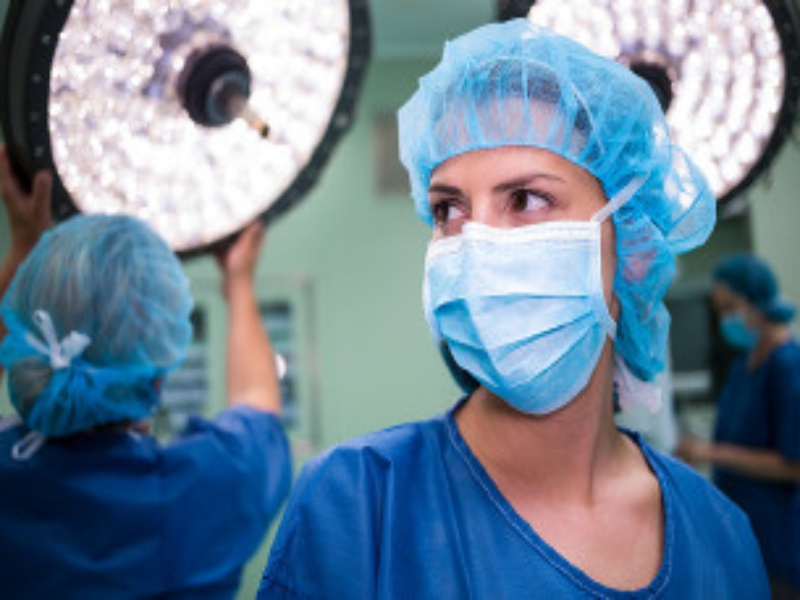mask: (406, 56, 642, 418)
